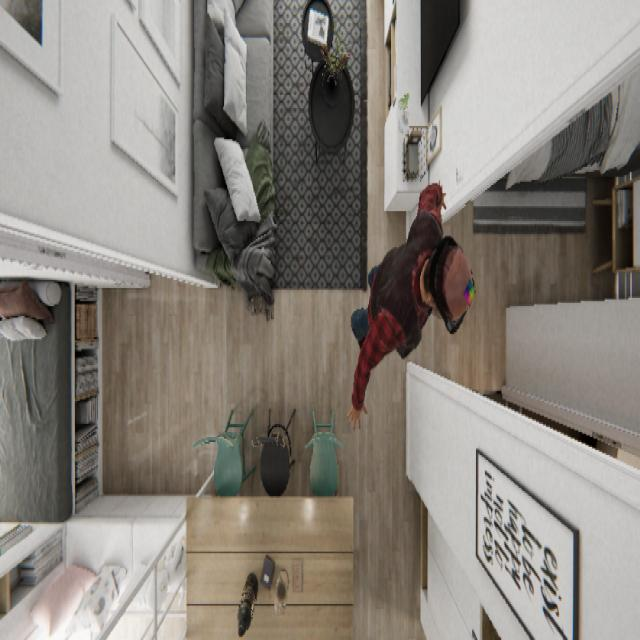Colored-Marker: (462, 272, 476, 308)
Human: (345, 178, 476, 430)
